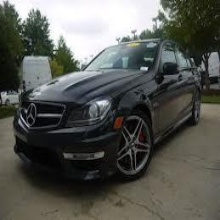no damage: (13, 38, 202, 180)
